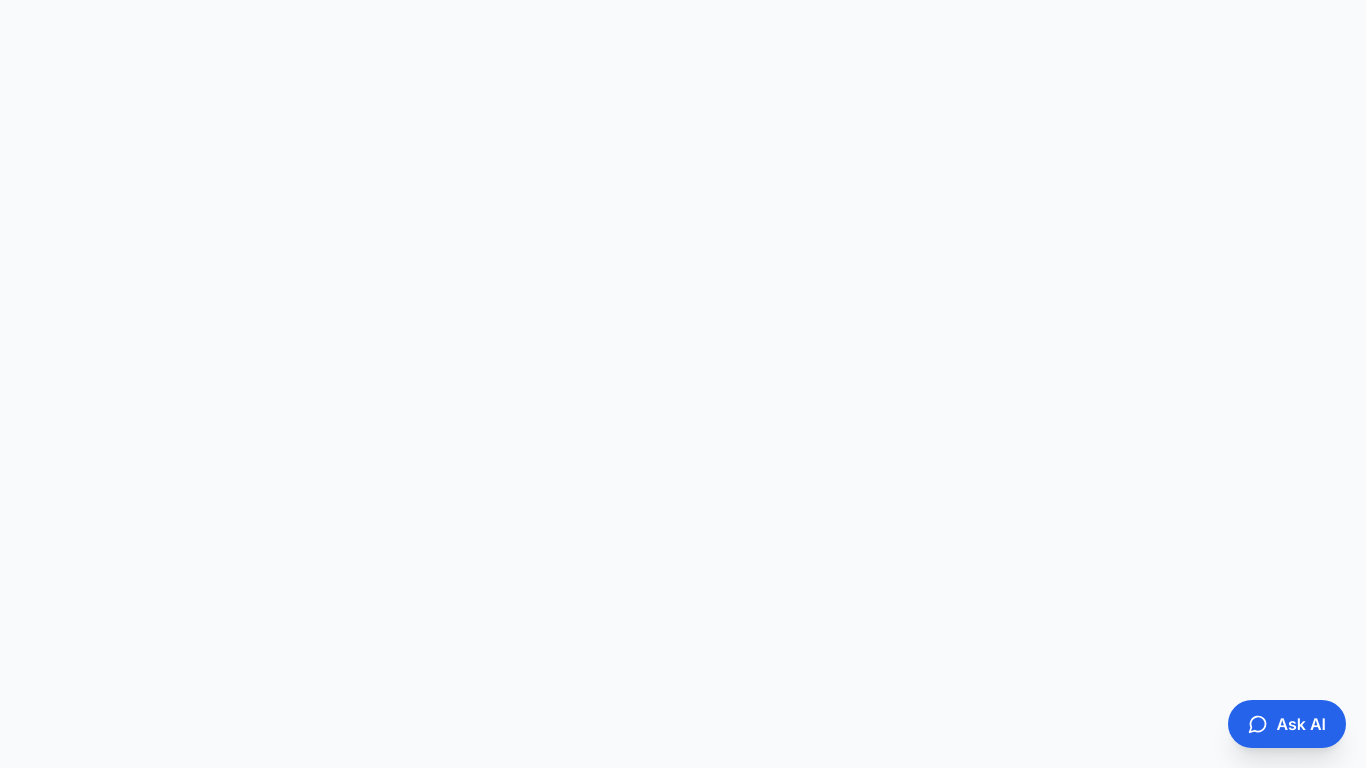
Test: opens with the welcome message and suggested questions
Click the button with aria-label "open chat".
click(1287, 724)  # box [1228, 700, 1346, 748]
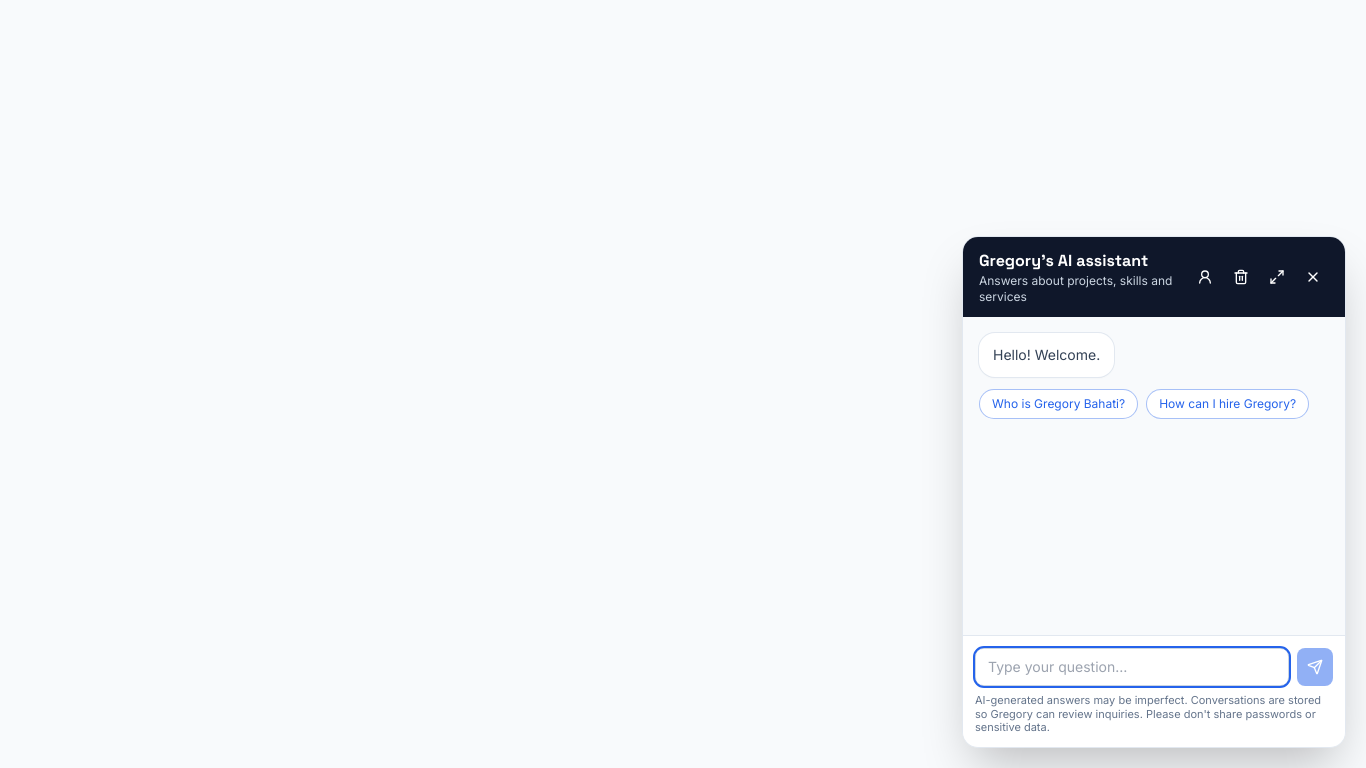
Result: the text "Hello! Welcome." is shown at [993, 345, 1100, 365]
Result: the button "How can I hire Gregory?" is shown at [1146, 389, 1309, 419]
